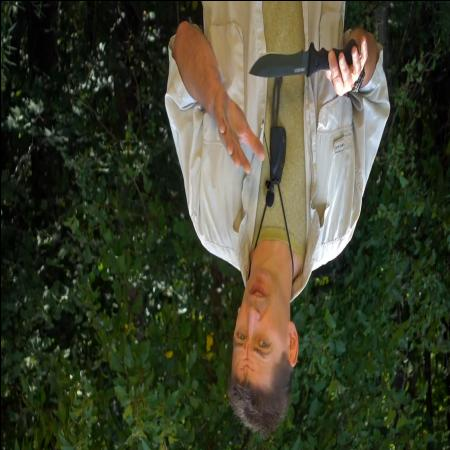long weapon: (244, 32, 369, 98)
